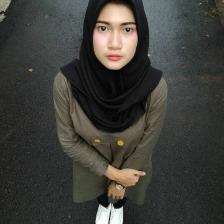Non Syar-i: (57, 0, 164, 132)
